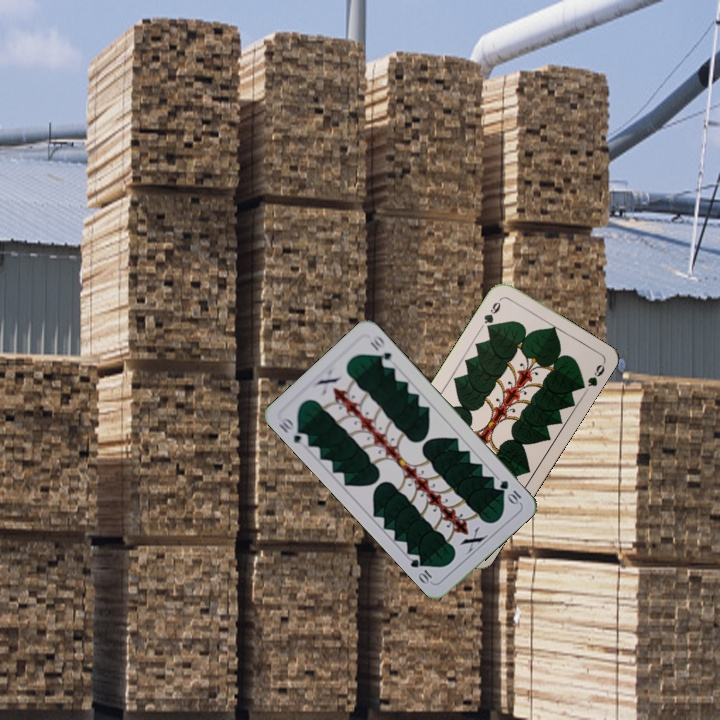G10: (274, 412, 311, 446), (495, 476, 524, 507)
G9: (479, 298, 503, 333)
